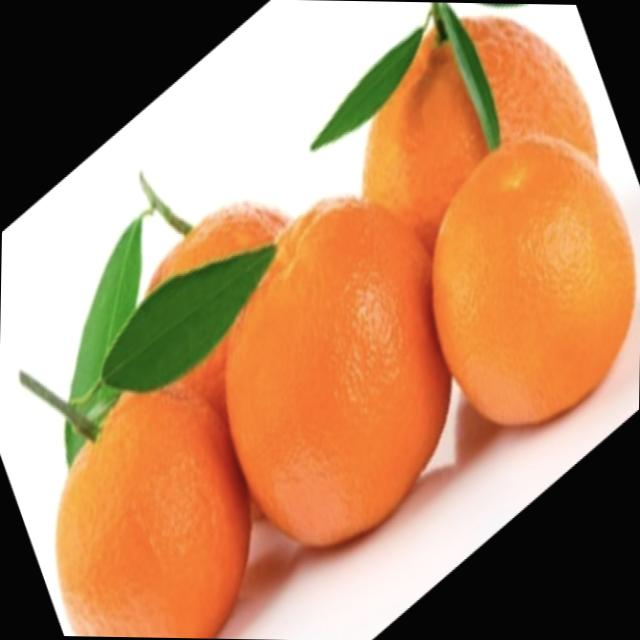orange: (214, 188, 456, 548), (423, 119, 640, 445), (354, 10, 623, 246), (45, 365, 268, 639)
